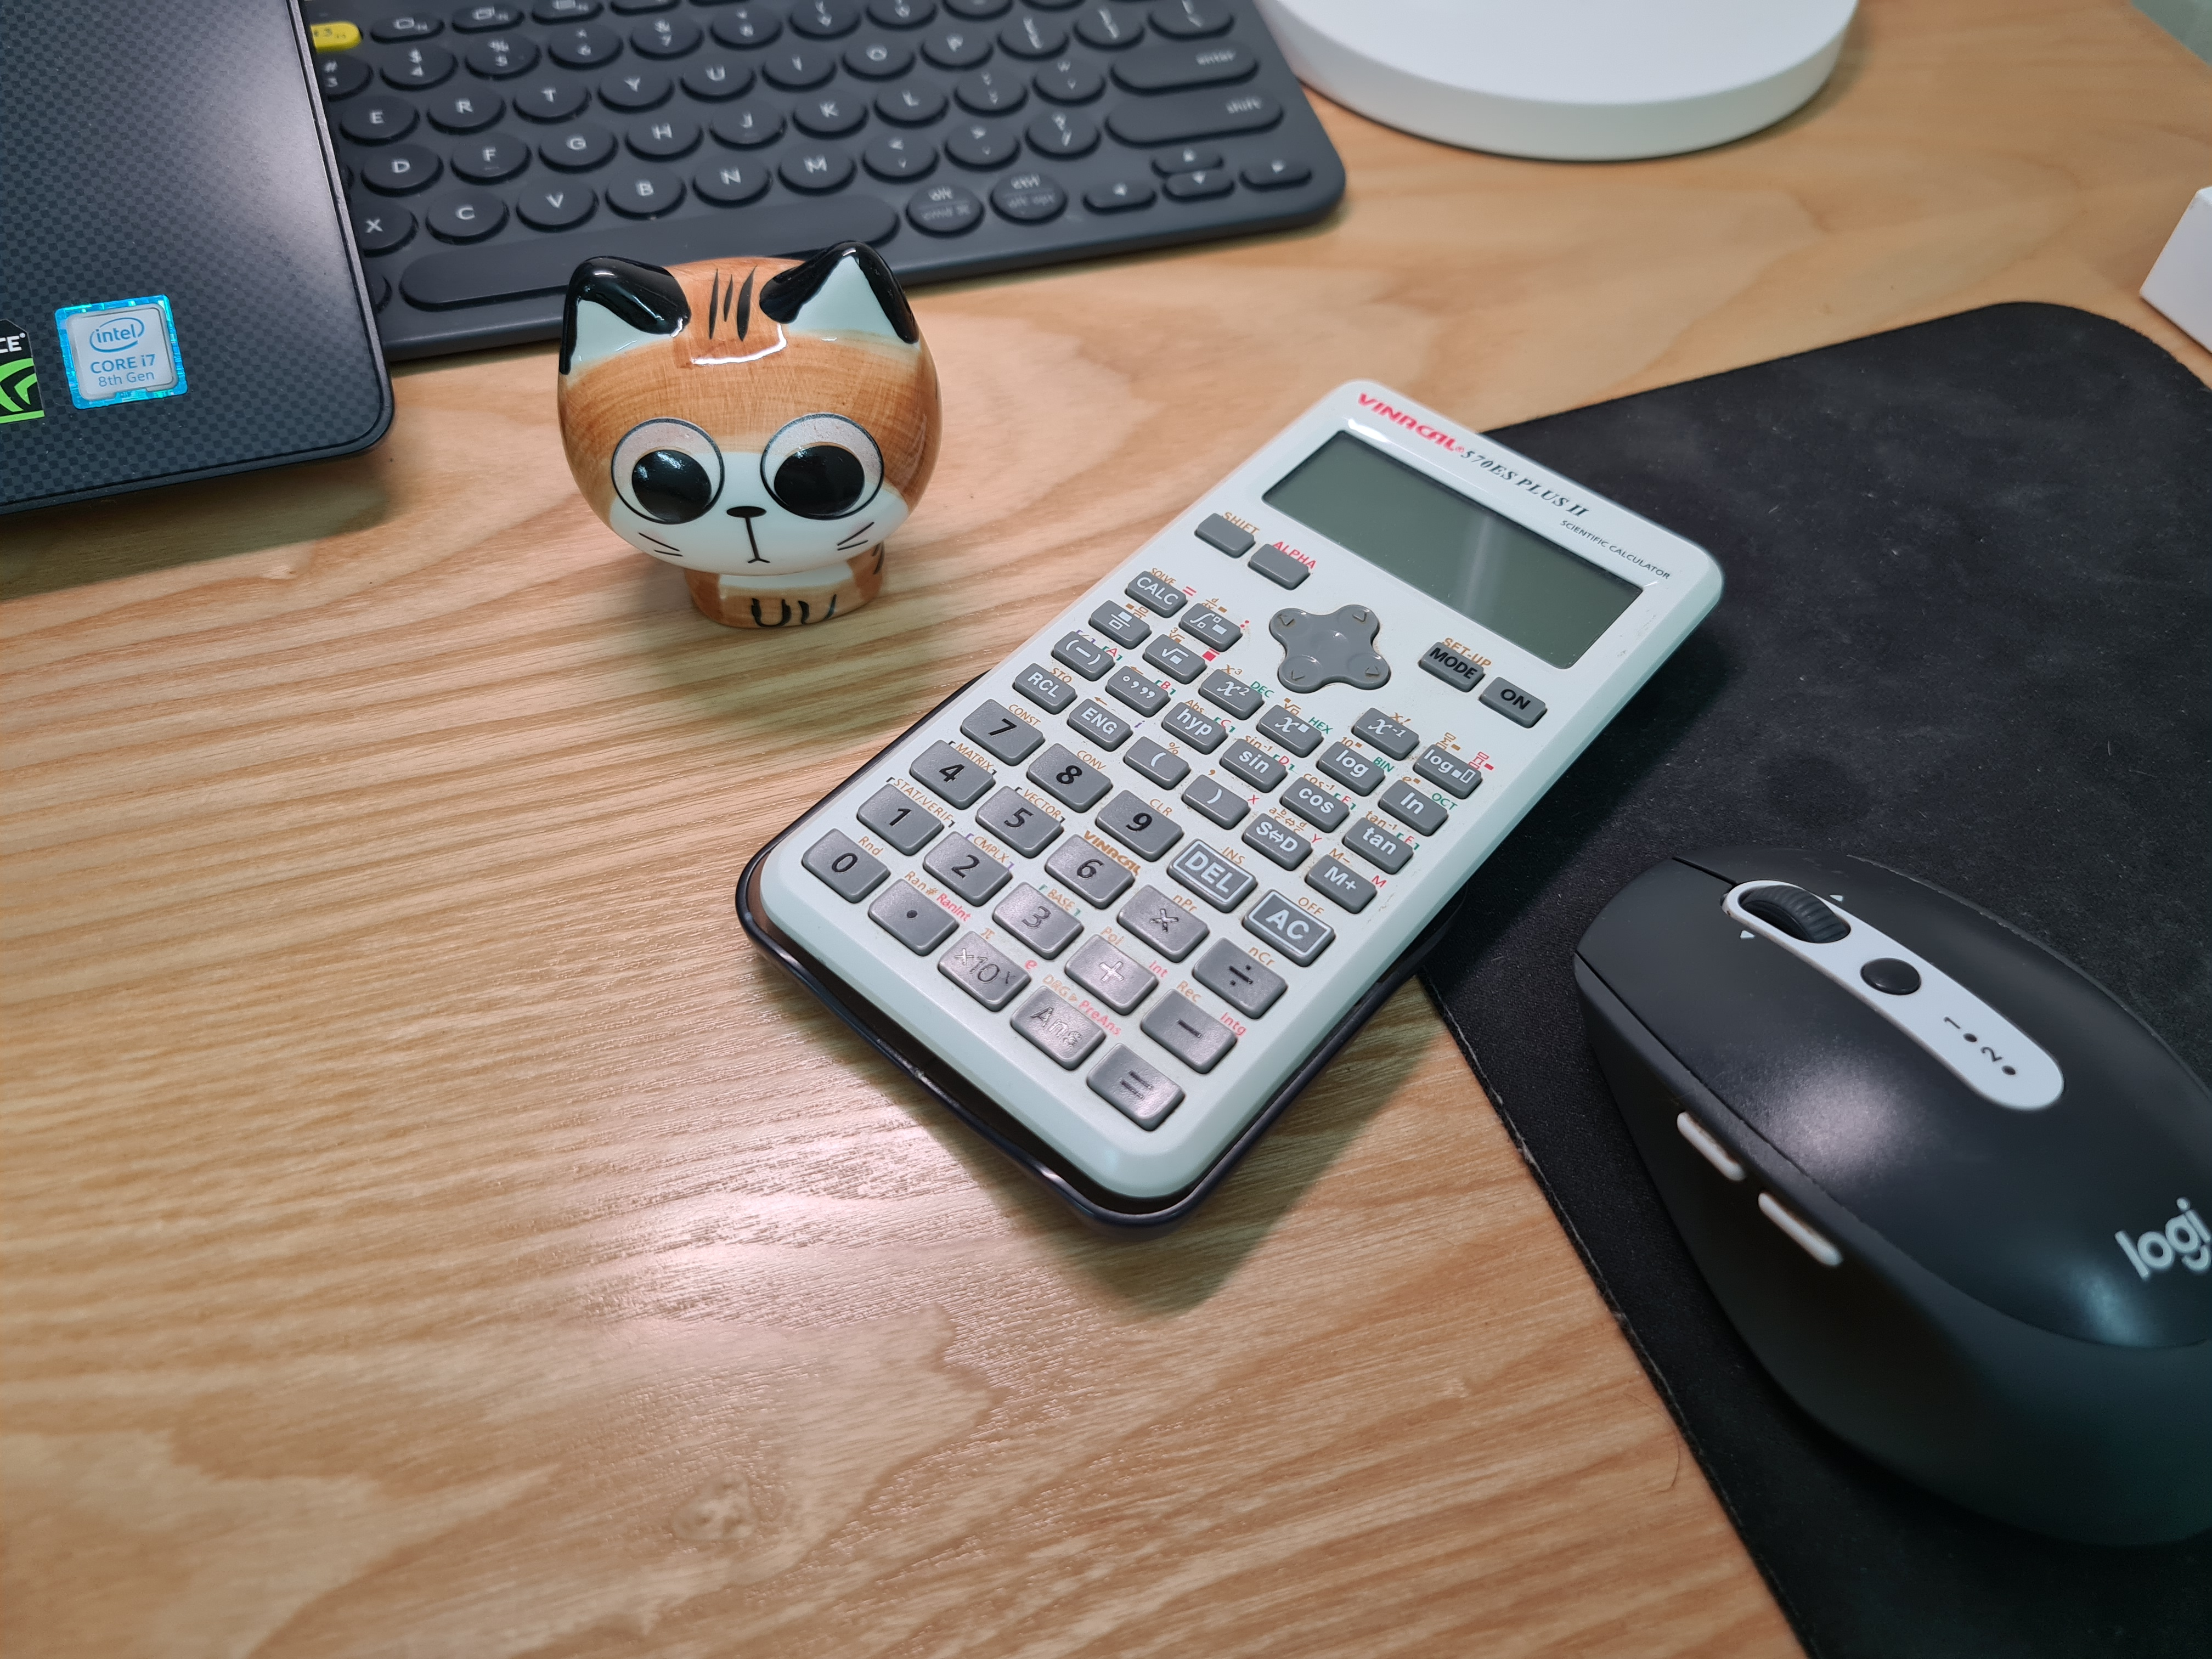calculator: (735, 376, 1726, 1241)
cat: (556, 237, 944, 631)
